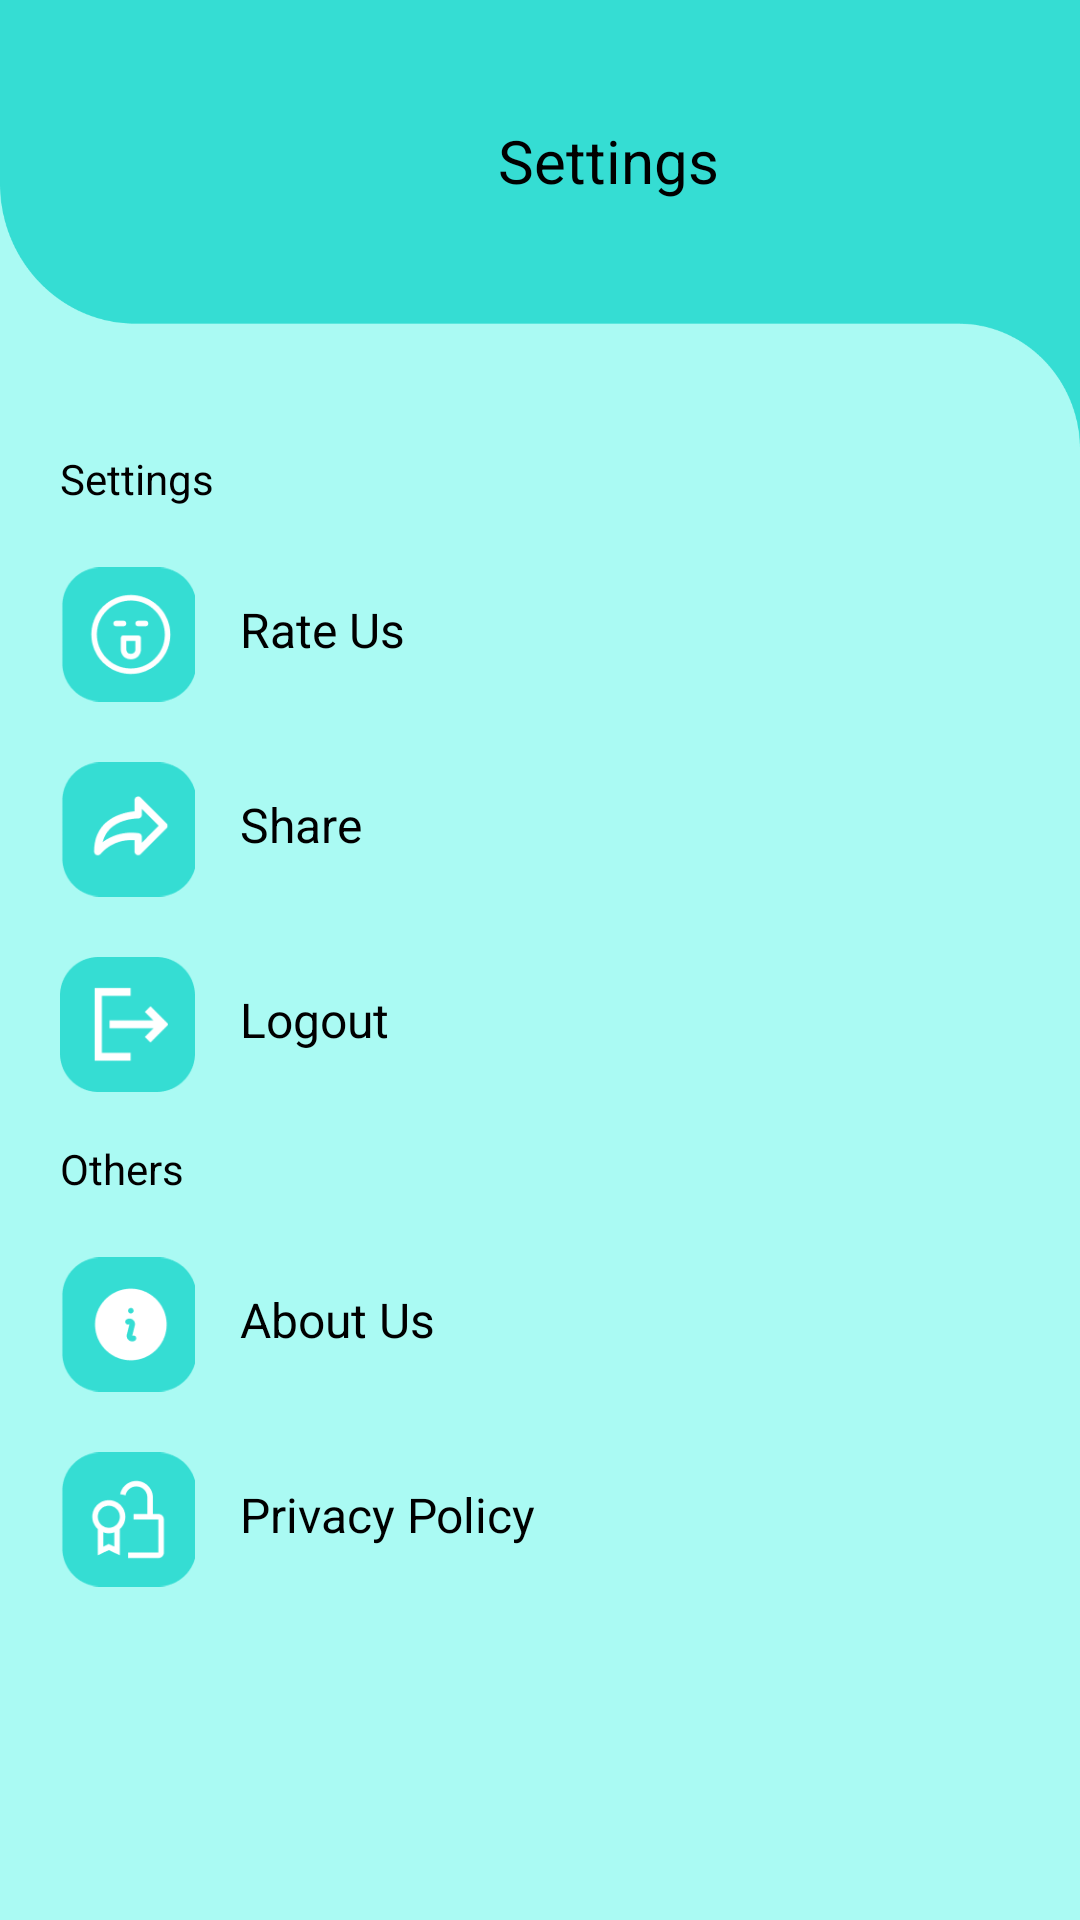

Icon bounding boxes for this 1080x1920 phone screenshot, format (x1, y1, x2, y2):
feedback: (62, 567, 195, 702)
